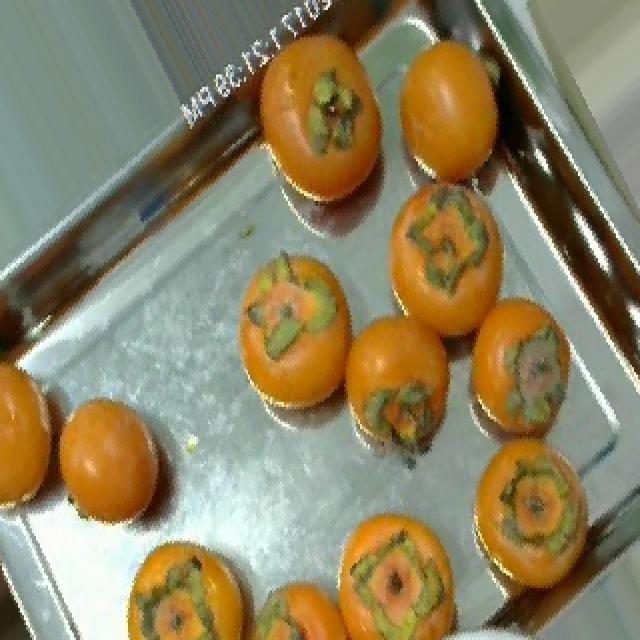Fruit: (448, 268, 610, 484), (454, 419, 616, 623), (40, 372, 202, 558), (324, 295, 482, 479), (382, 10, 506, 218), (328, 496, 476, 640), (114, 516, 270, 640)
